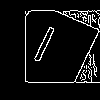I: (25, 25, 59, 73)
